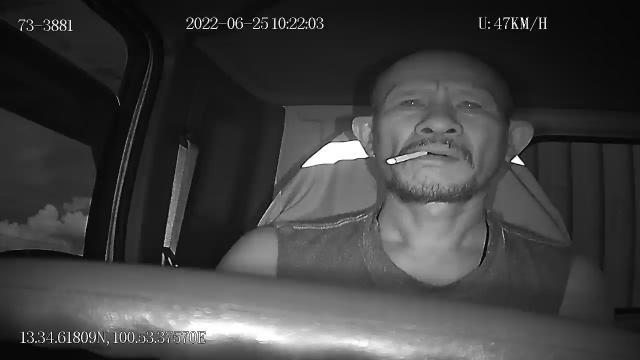SafeDriving: (391, 89, 432, 117), (450, 91, 490, 119)
Smoking: (386, 150, 428, 164)
